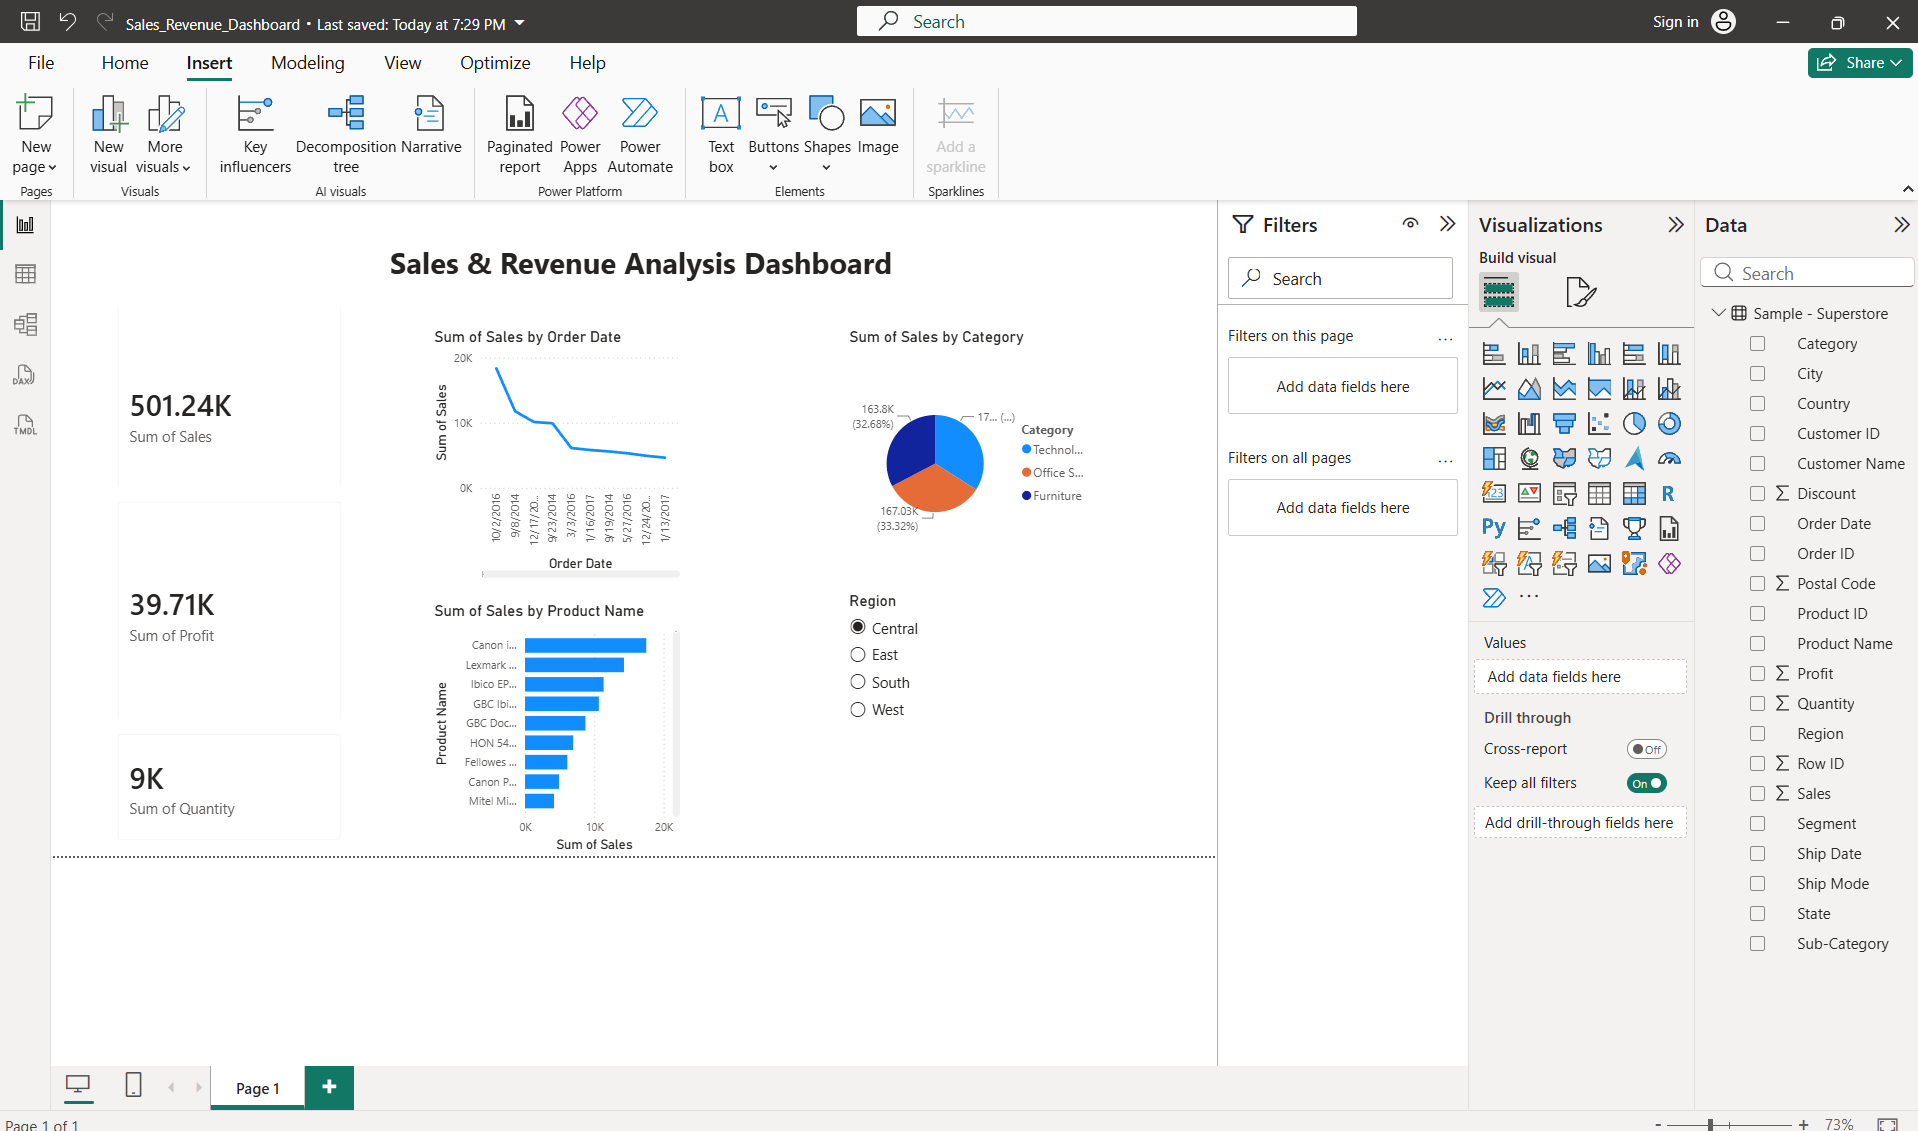

The page's visual inventory and layout, read from the dashboard file:
{"tool":"powerbi","page":{"name":"Page 1","canvas":[1280,720],"ordinal":0},"visuals":[{"type":"cardVisual","fields":{"Data":["Sum(Sample - Superstore.Sales)"]},"box":[33.7,91,279.9,279.9],"z":0},{"type":"cardVisual","fields":{"Data":["Sum(Sample - Superstore.Profit)"]},"box":[33.7,310.2,279.9,279.9],"z":1000},{"type":"cardVisual","fields":{"Data":["Sum(Sample - Superstore.Quantity)"]},"box":[33.7,569.9,279.9,150.1],"z":2000},{"type":"lineChart","fields":{"Category":["Sample - Superstore.Order Date"],"Y":["Sum(Sample - Superstore.Sales)"]},"box":[384.4,139.9,279.9,279.9],"z":3000},{"type":"clusteredBarChart","fields":{"Y":["Sum(Sample - Superstore.Sales)"],"Category":["Sample - Superstore.Product Name"]},"box":[384.4,440,279.9,279.9],"z":4000},{"type":"pieChart","fields":{"Category":["Sample - Superstore.Category"],"Y":["Sum(Sample - Superstore.Sales)"]},"box":[802.5,139.9,279.9,279.9],"z":5000},{"type":"listSlicer","fields":{"Values":["Sample - Superstore.Region"]},"box":[814.3,440,279.9,279.9],"z":6001},{"type":"textbox","box":[16.9,42.2,1262.8,74.2],"z":6002}]}

Visuals, with their boxes in screenshot pixels (x1, y1, x2, y2):
cardVisual - Sum(Sample - Superstore.Sales): <bbox>123, 105, 522, 504</bbox>
cardVisual - Sum(Sample - Superstore.Profit): <bbox>123, 417, 522, 816</bbox>
cardVisual - Sum(Sample - Superstore.Quantity): <bbox>123, 787, 522, 1001</bbox>
lineChart - Sample - Superstore.Order Date x Sum(Sample - Superstore.Sales): <bbox>623, 174, 1022, 573</bbox>
clusteredBarChart - Sum(Sample - Superstore.Sales) x Sample - Superstore.Product Name: <bbox>623, 602, 1022, 1001</bbox>
pieChart - Sample - Superstore.Category x Sum(Sample - Superstore.Sales): <bbox>1219, 174, 1618, 573</bbox>
listSlicer - Sample - Superstore.Region: <bbox>1236, 602, 1635, 1001</bbox>
textbox: <bbox>99, 35, 1899, 141</bbox>
